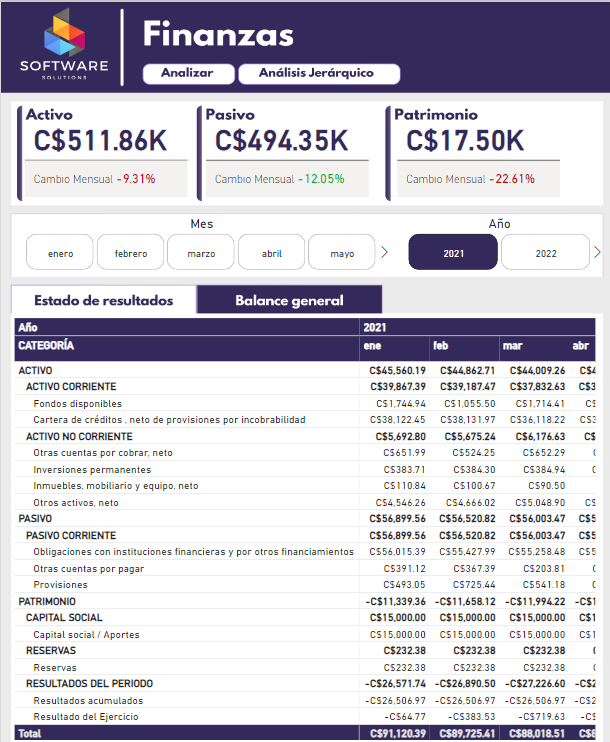

What the dashboard file says about the page in this screenshot:
{"tool":"powerbi","page":{"name":"Balance General","canvas":[816,1056],"ordinal":0},"visuals":[{"type":"pivotTable","title":"Matrix - Estados Financieros","fields":{"Columns":["dimCalendario.Año","dimCalendario.Mes"],"Rows":["Catelogo de Cuentas.GRUPO","Catelogo de Cuentas.SUBGRUPO","Catelogo de Cuentas.CUENTA"],"Values":["Tabla de Metricas.Saldo"]},"box":[14,417,784,612],"z":0},{"type":"advancedSlicerVisual","title":"Mes","fields":{"Values":["dimCalendario.Mes largo"]},"box":[13.3,285.5,508.5,77.8],"z":1000},{"type":"cardVisual","title":"Card - Activo","fields":{"Data":["Tabla de Metricas.Saldo"]},"box":[27,145,227,120],"z":2000},{"type":"cardVisual","title":"Card - Pasivo","fields":{"Data":["Tabla de Metricas.Saldo"]},"box":[268,145,227,120],"z":3000},{"type":"cardVisual","title":"Card - Patrimonio","fields":{"Data":["Tabla de Metricas.Saldo"]},"box":[523,145,227,120],"z":4000},{"type":"advancedSlicerVisual","title":"Año","fields":{"Values":["dimCalendario.Año"]},"box":[522.7,285.5,282.7,77.8],"z":5000},{"type":"actionButton","box":[14.3,377.1,247.9,37.9],"z":6000},{"type":"actionButton","box":[262.1,377.1,245.7,37.9],"z":7000},{"type":"actionButton","box":[190,82.9,121.7,26.7],"z":8000},{"type":"actionButton","box":[315.8,82.9,215.4,26.7],"z":9000}]}

Visuals, with their boxes on the page's 816x1056 design canvas (x1, y1, x2, y2). These are canvas units, not pixel positions in the 610x742 screenshot, which may show the page scaled, cropped or inside an application window:
"Matrix - Estados Financieros" pivotTable: select_region(14, 417, 798, 1029)
"Mes" advancedSlicerVisual: select_region(13, 286, 522, 363)
"Card - Activo" cardVisual: select_region(27, 145, 254, 265)
"Card - Pasivo" cardVisual: select_region(268, 145, 495, 265)
"Card - Patrimonio" cardVisual: select_region(523, 145, 750, 265)
"Año" advancedSlicerVisual: select_region(523, 286, 805, 363)
actionButton: select_region(14, 377, 262, 415)
actionButton: select_region(262, 377, 508, 415)
actionButton: select_region(190, 83, 312, 110)
actionButton: select_region(316, 83, 531, 110)
